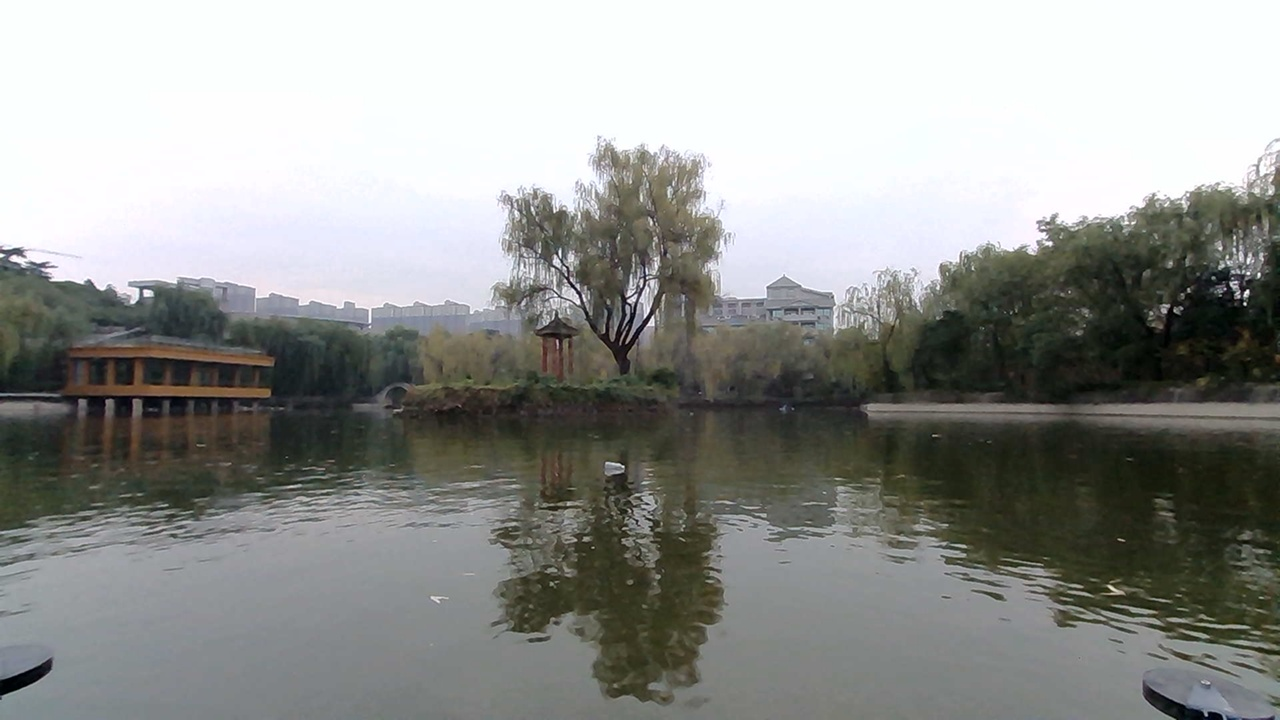bottle: (591, 445, 655, 478)
